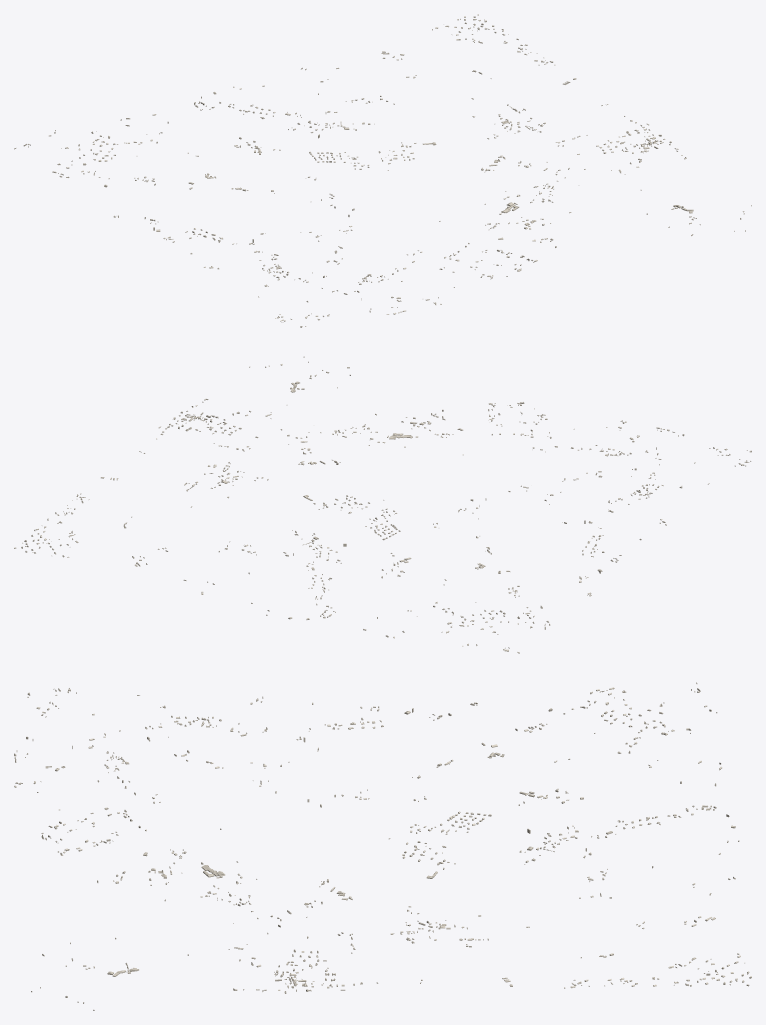
3 renders of one model, top to bottom at view 1: azimuth 30°, elevation 25°; view 2: azimuth 150°, elevation 25°; view 3: azimuth 270°, elevation 25°, orthographic. The views are drawn at different scales.
Bounding box in the file's own units: 3648 × 112 × 3589.
